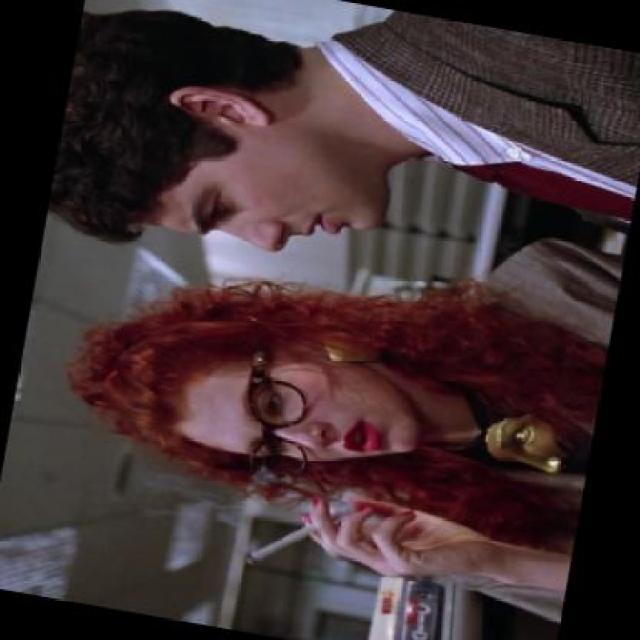smoke: (242, 493, 340, 578)
